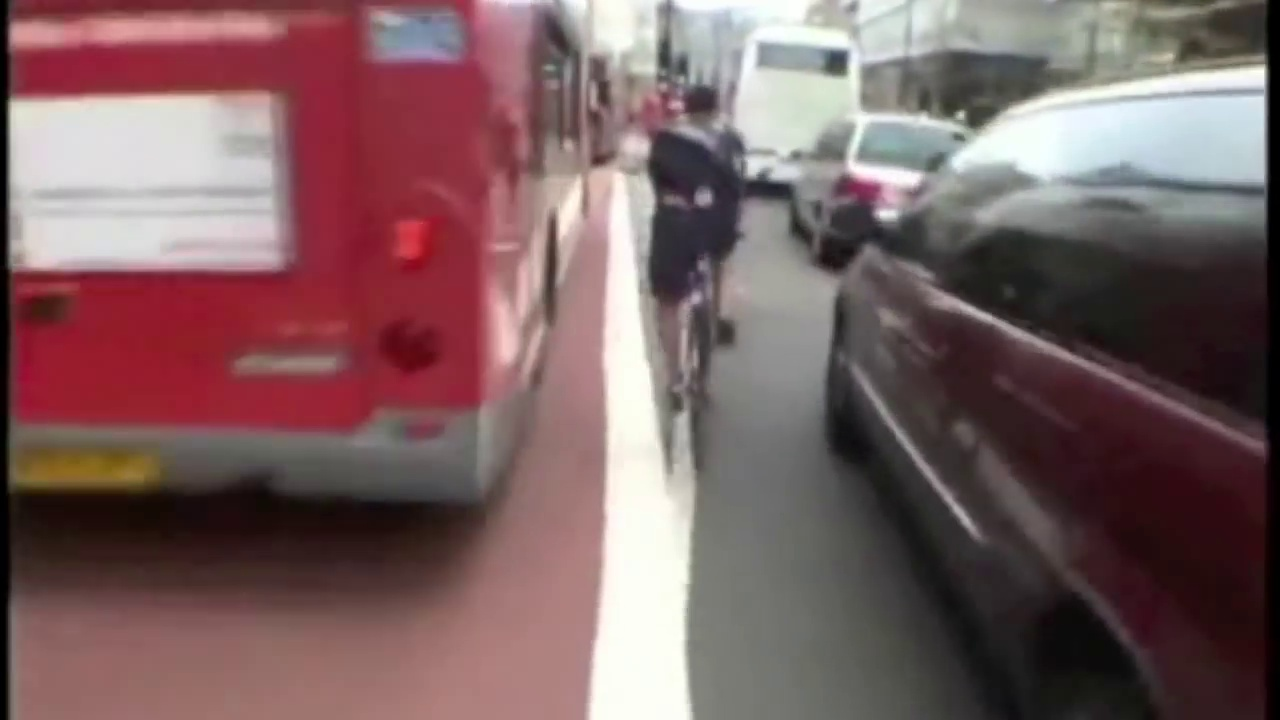cyclist_back: (634, 70, 748, 484)
